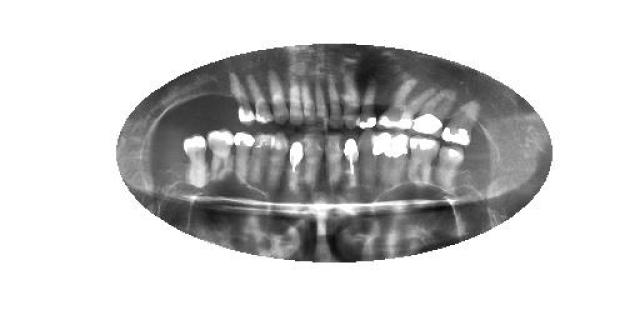Fillings: (379, 78, 431, 130), (412, 90, 456, 136), (442, 100, 480, 145), (408, 138, 438, 188), (182, 136, 210, 188), (231, 67, 255, 125), (436, 142, 464, 190), (231, 132, 255, 184), (208, 131, 232, 180), (388, 132, 410, 182), (358, 78, 378, 130), (371, 132, 390, 184)
Implant: (344, 132, 361, 188), (288, 136, 304, 186)
